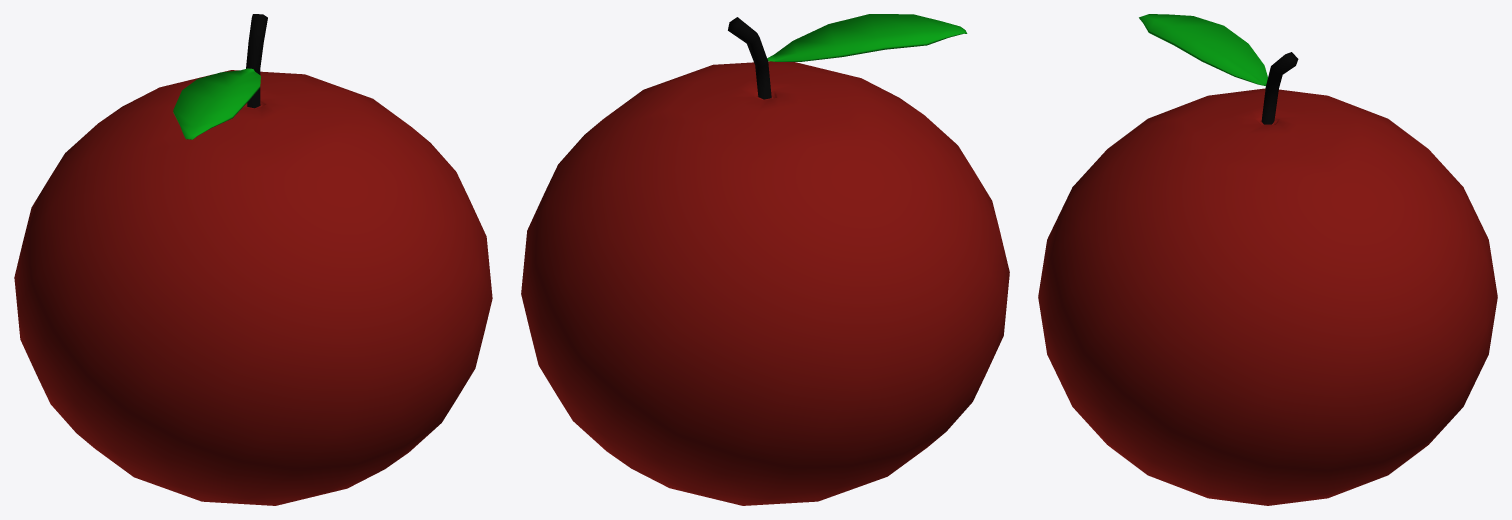
File: SM_Apple_001.fbx
3 renders of one model, left to right at view 1: azimuth 30°, elevation 25°; view 2: azimuth 150°, elevation 25°; view 3: azimuth 270°, elevation 25°, orthographic. The views are drawn at different scales.
Visible parts, largest first — view 1: Apple; view 2: Apple; view 3: Apple.
Part boxes in pixels (x1,y1,x2,y2): Apple: (14,14,492,505); Apple: (521,14,1009,505); Apple: (1038,14,1497,505).
Size of what is drawn, in the model's own units: 22.08 by 22.44 by 22.05.
